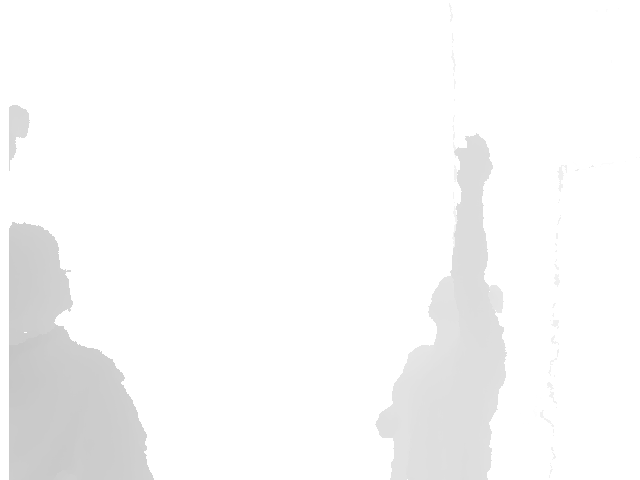hand: (453, 134, 494, 190)
head: (8, 220, 73, 334), (427, 272, 490, 346)
person: (373, 134, 507, 480), (9, 220, 155, 480)
